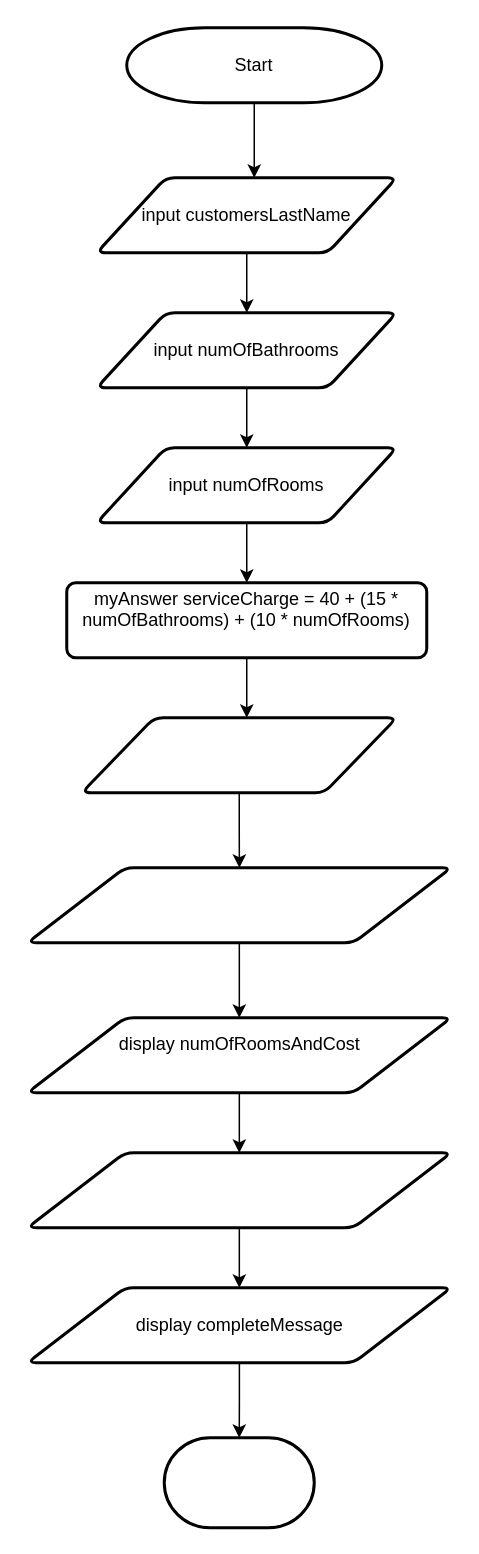
The diagram is 479 pixels wide and 1554 high, and some of its shapes have lost their labels. Here are the shapes that lost their labels. From the top down, the centre of each, then its label:
At point (239, 755): "display customersLastName".
At point (238, 905): "display numOfBathroomsAndCost".
At point (238, 1189): "display serviceCharge".
At point (238, 1482): "end".
